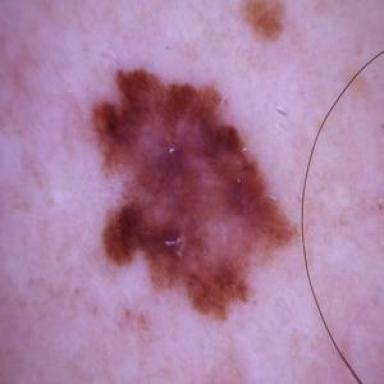Melanoma: (93, 70, 293, 319)
